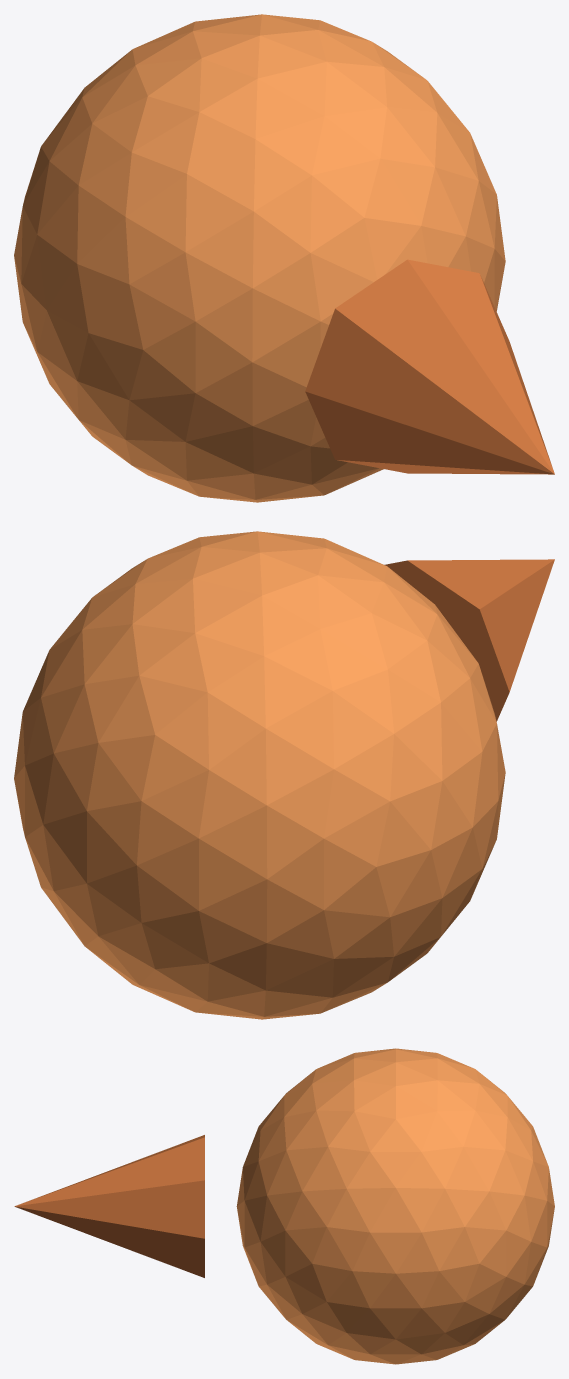
Rendered from item_projectile.glb.
3 views of the same model, one above another, from view 1: azimuth 30°, elevation 25°; view 2: azimuth 150°, elevation 25°; view 3: azimuth 270°, elevation 25° (orthographic). The views are drawn at different scales.
Visible parts, largest first — view 1: part_0, part_2; view 2: part_0, part_2; view 3: part_0, part_2.
Boxes of the visible parts, x1,y1,x2,y2 form: part_0: [14, 14, 505, 502]; part_2: [305, 259, 554, 474]; part_0: [14, 531, 505, 1019]; part_2: [384, 559, 554, 721]; part_0: [236, 1048, 554, 1364]; part_2: [14, 1135, 204, 1277].
Bounding box in the file's own units: 0.5 × 0.5 × 0.85.
